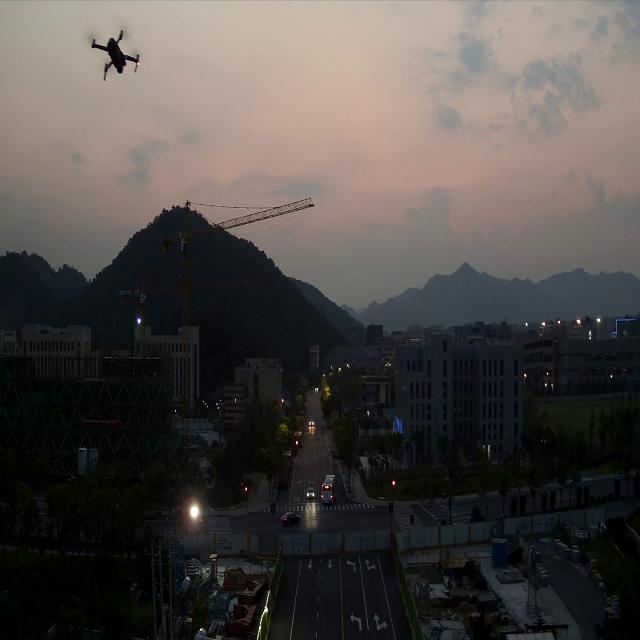UAV: (90, 30, 140, 81)
